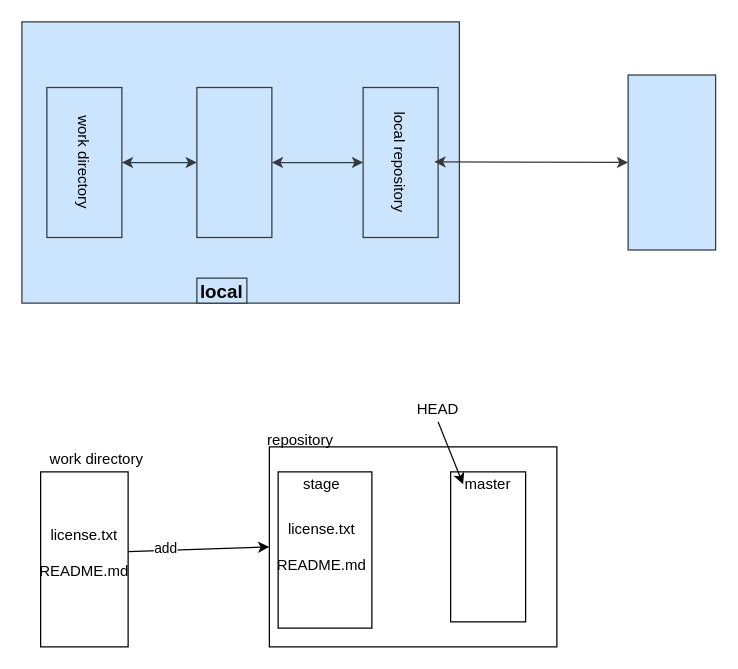
This 738x669 diagram has some shape labels left out. Here are the shapes that lost their labels. From the top down, the box of each, then its label:
(196, 86, 272, 238): stage(index)
(627, 74, 716, 250): remote repository
